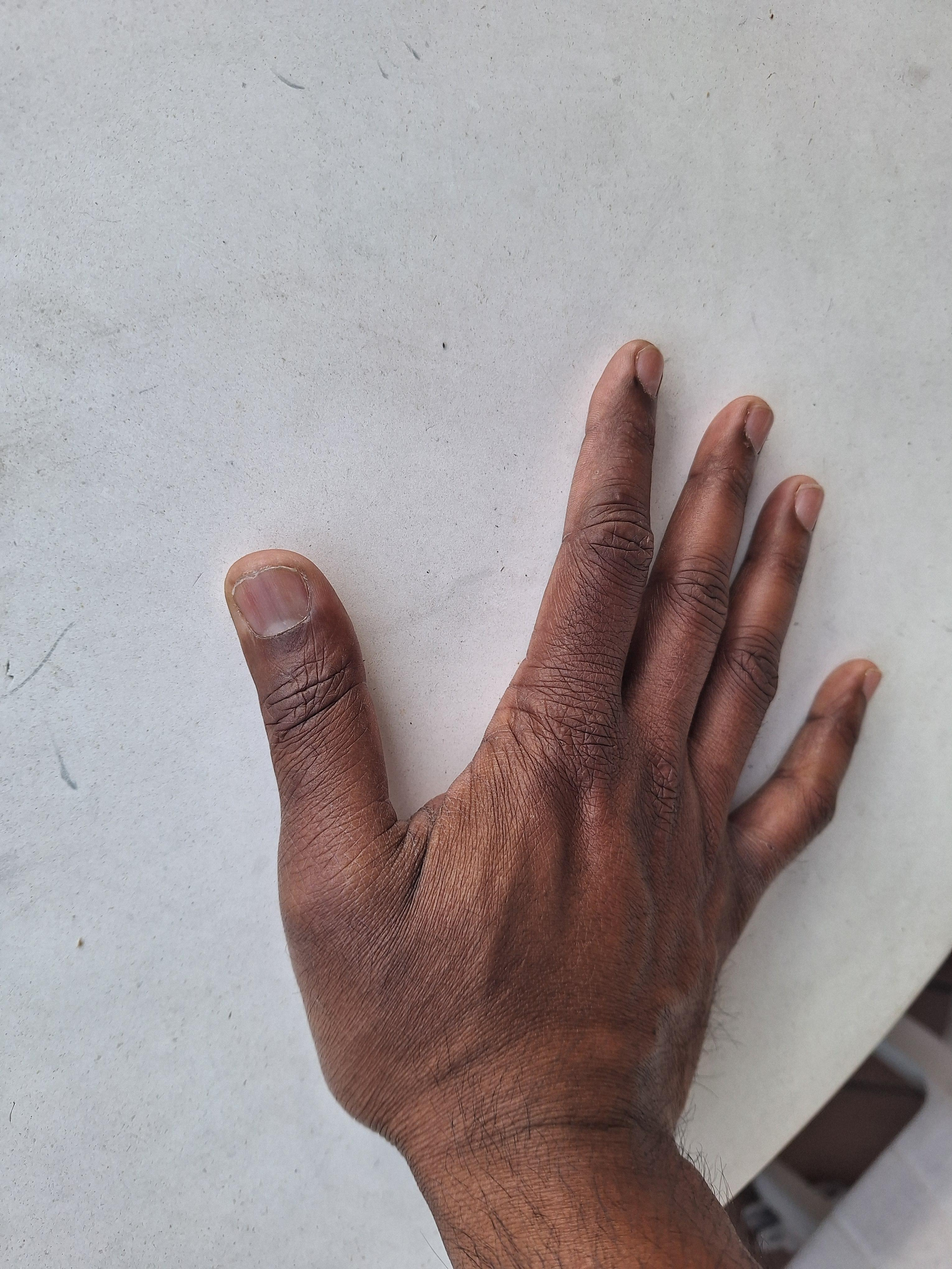Fingernail: (231, 567, 312, 639), (636, 345, 665, 400), (796, 484, 824, 533), (746, 408, 774, 456)
